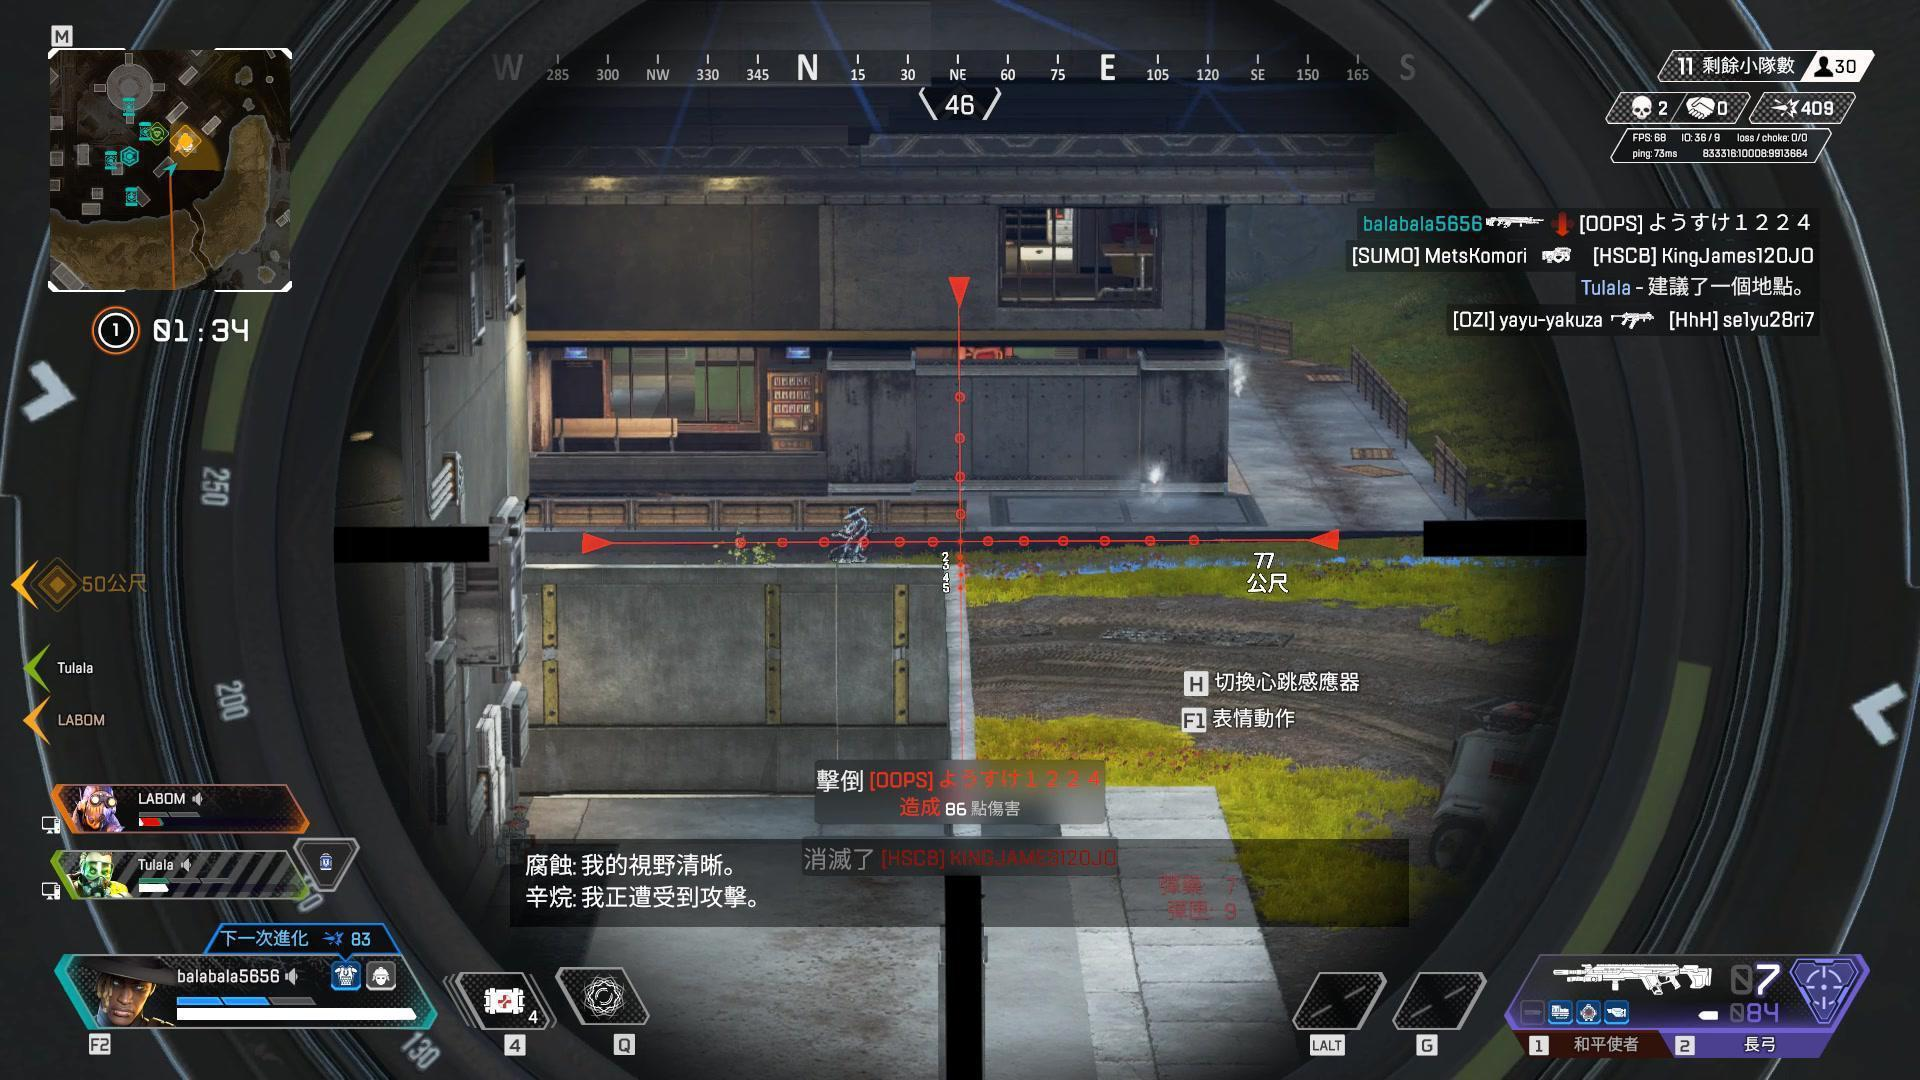avatar: (827, 505, 872, 564)
